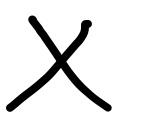mult: (6, 15, 110, 111)
